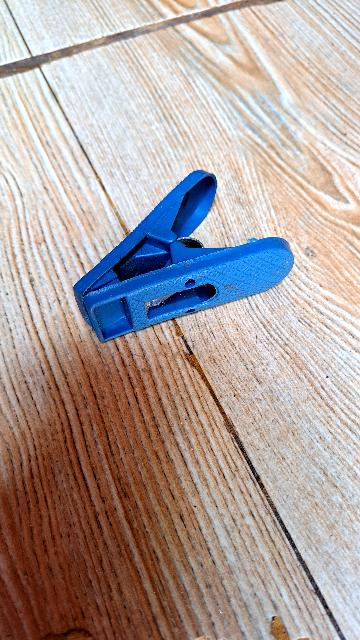hardplastic: (80, 164, 287, 360)
